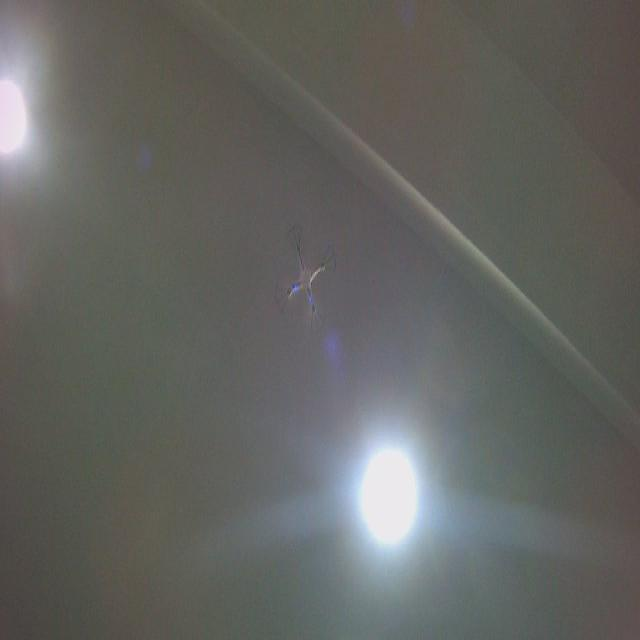drone: (272, 220, 341, 338)
